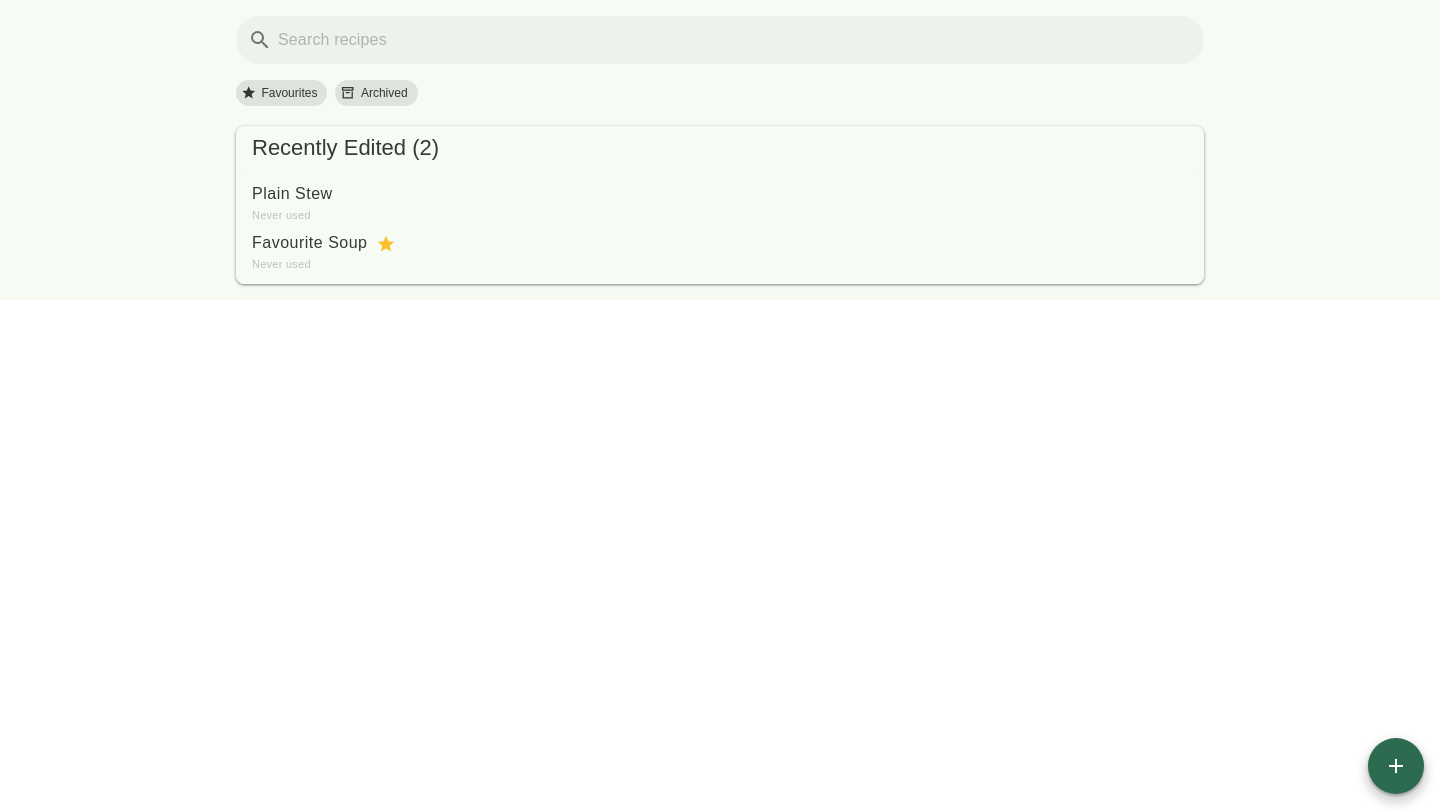
Scenario: RecipesView favourite indicator › shows a star icon only for favourited recipes, including in search results
Expected: the number of list items is 2, [252,185,333,221]; [252,234,396,270]
Type "Favourite" into the field with placeholder "Search recipes" at (732, 40), box [272,16,1192,64]
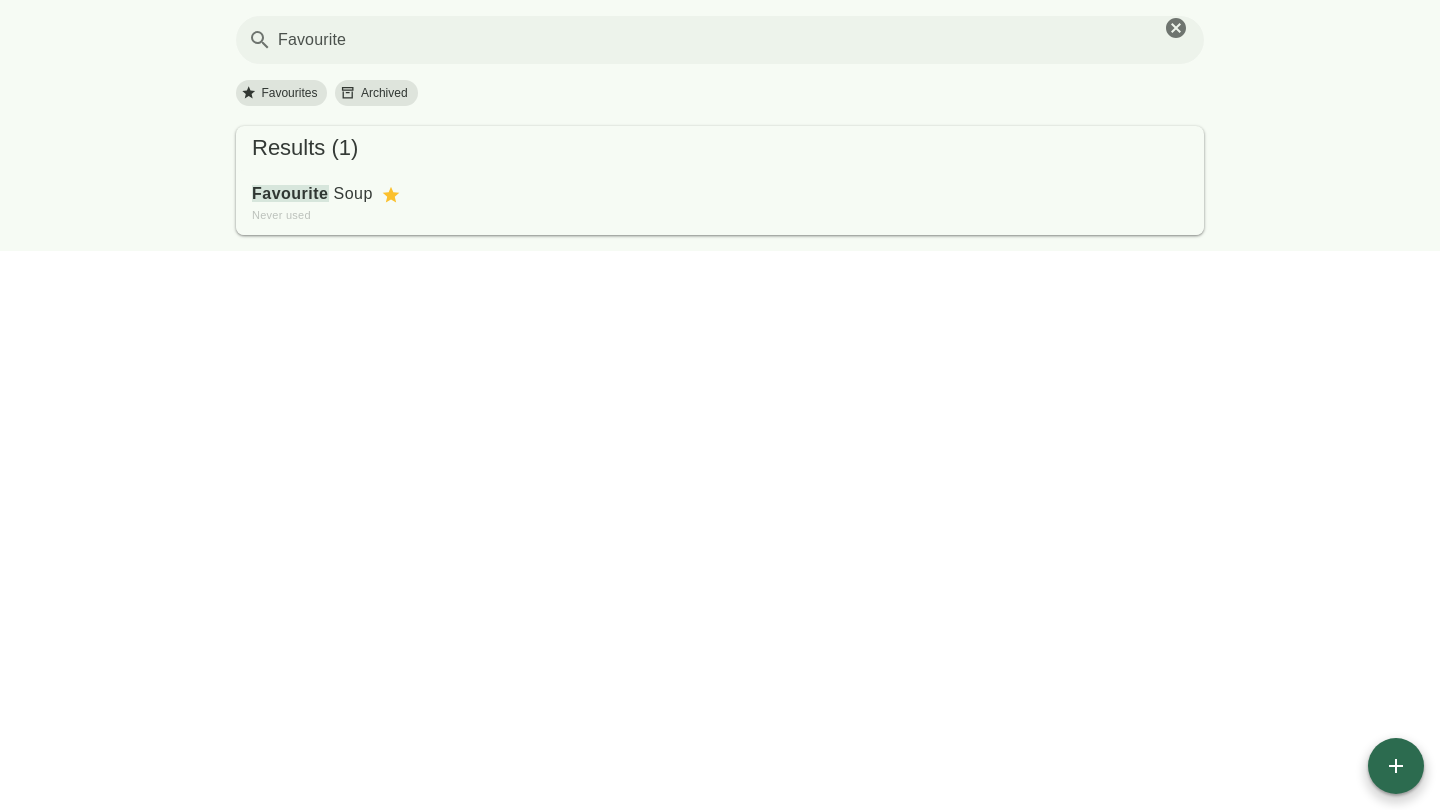
Expected: the number of list items is 1, [252,185,401,221]
